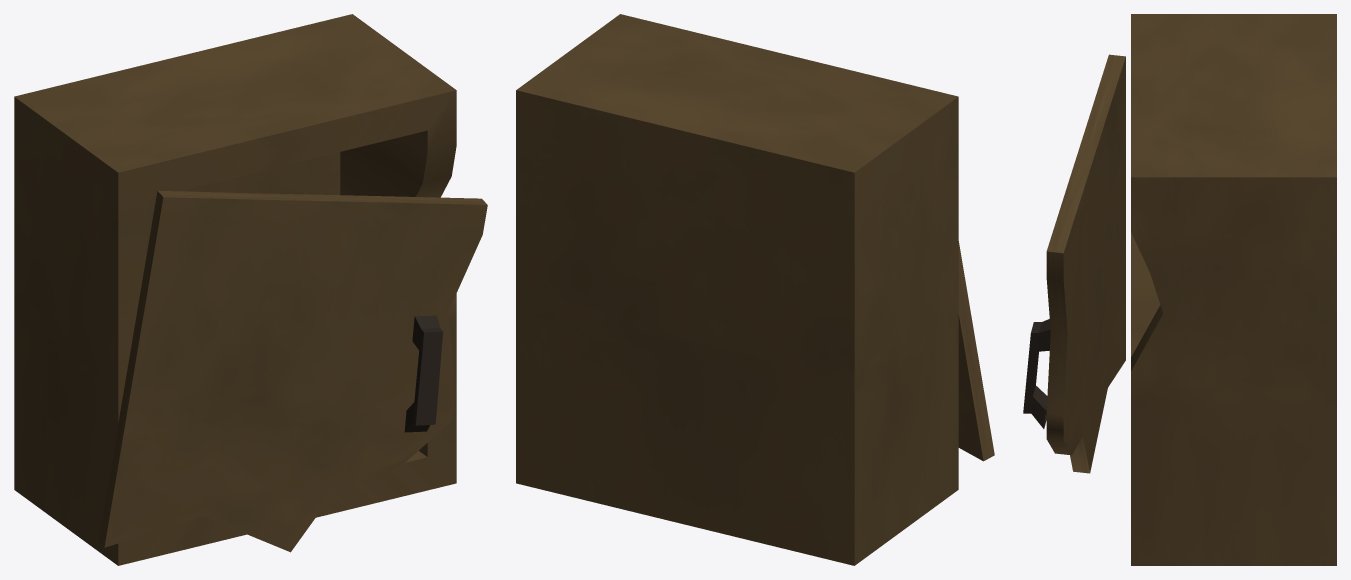
Rendered from Cabinet_Broken.fbx.
The picture shows the model from 3 angles, left to right: view 1: azimuth 30°, elevation 25°; view 2: azimuth 150°, elevation 25°; view 3: azimuth 270°, elevation 25°; orthographic projection.
Visible parts, largest first — view 1: pCube29; view 2: pCube29; view 3: pCube29.
Part boxes in pixels (left/top/right/bottom): pCube29: left=14, top=14, right=487, bottom=565; pCube29: left=516, top=14, right=994, bottom=565; pCube29: left=1023, top=14, right=1336, bottom=565.
Size of the model in its own units: 63.57 by 64.95 by 47.45.
